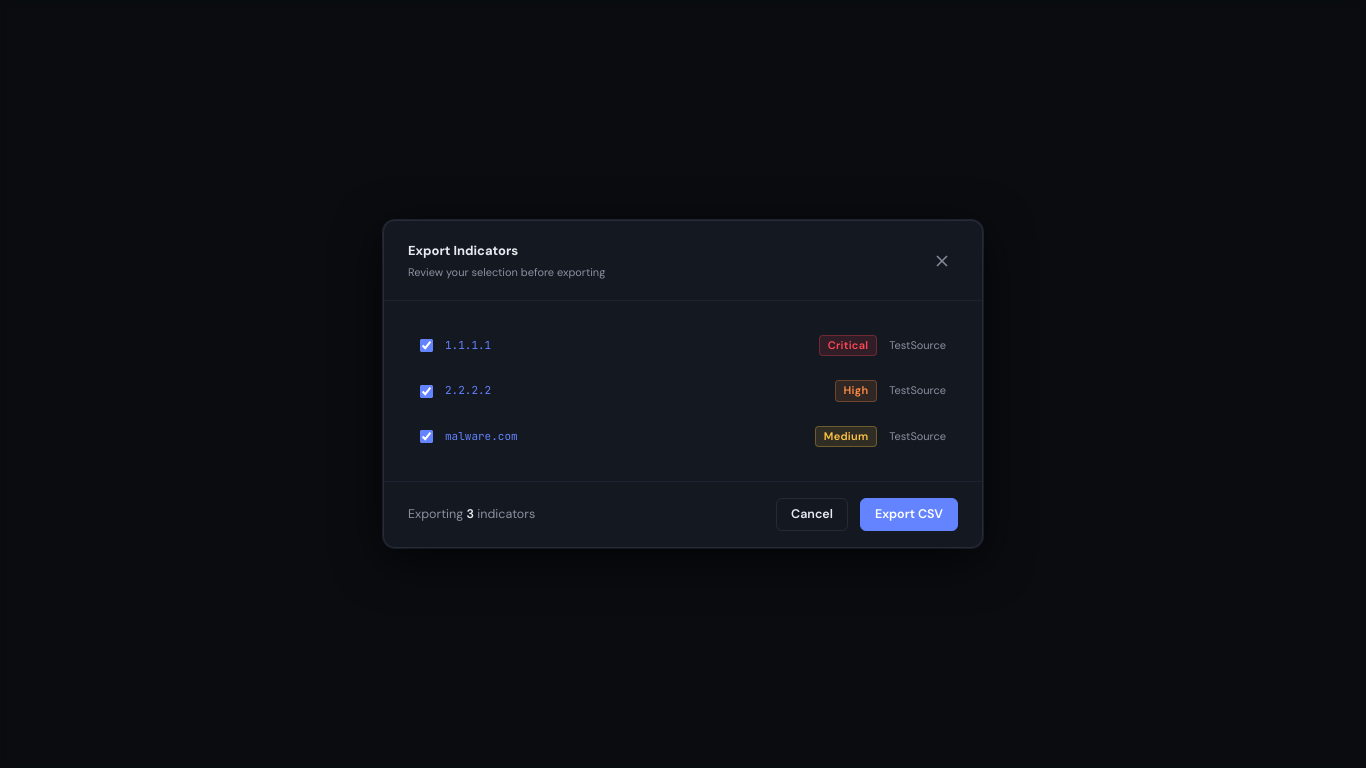
Test: ExportModal › disables Export CSV button when no items selected
Click the checkbox labelled "1.1.1.1 critical TestSource" at (426, 346), box [420,339,433,352]
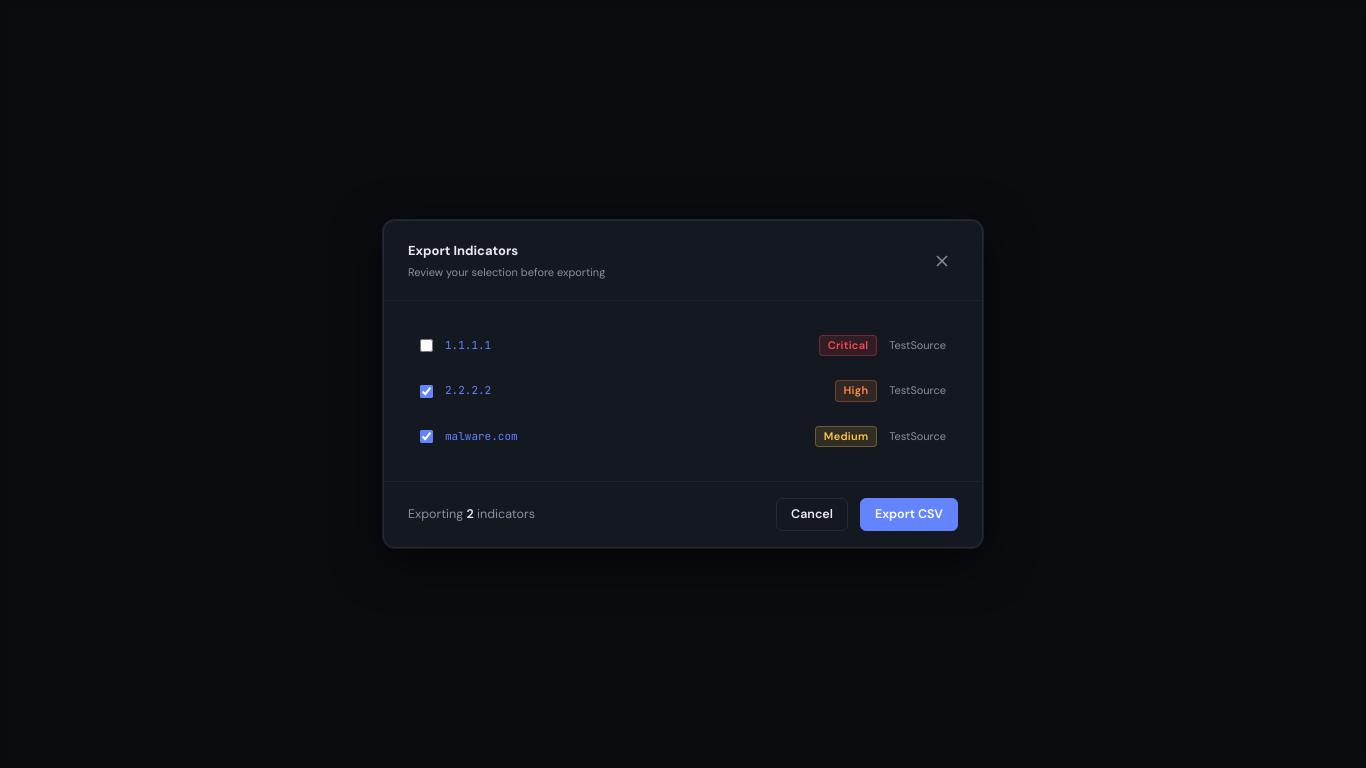
Click the checkbox labelled "2.2.2.2 high TestSource" at (426, 391), box [420,385,433,398]
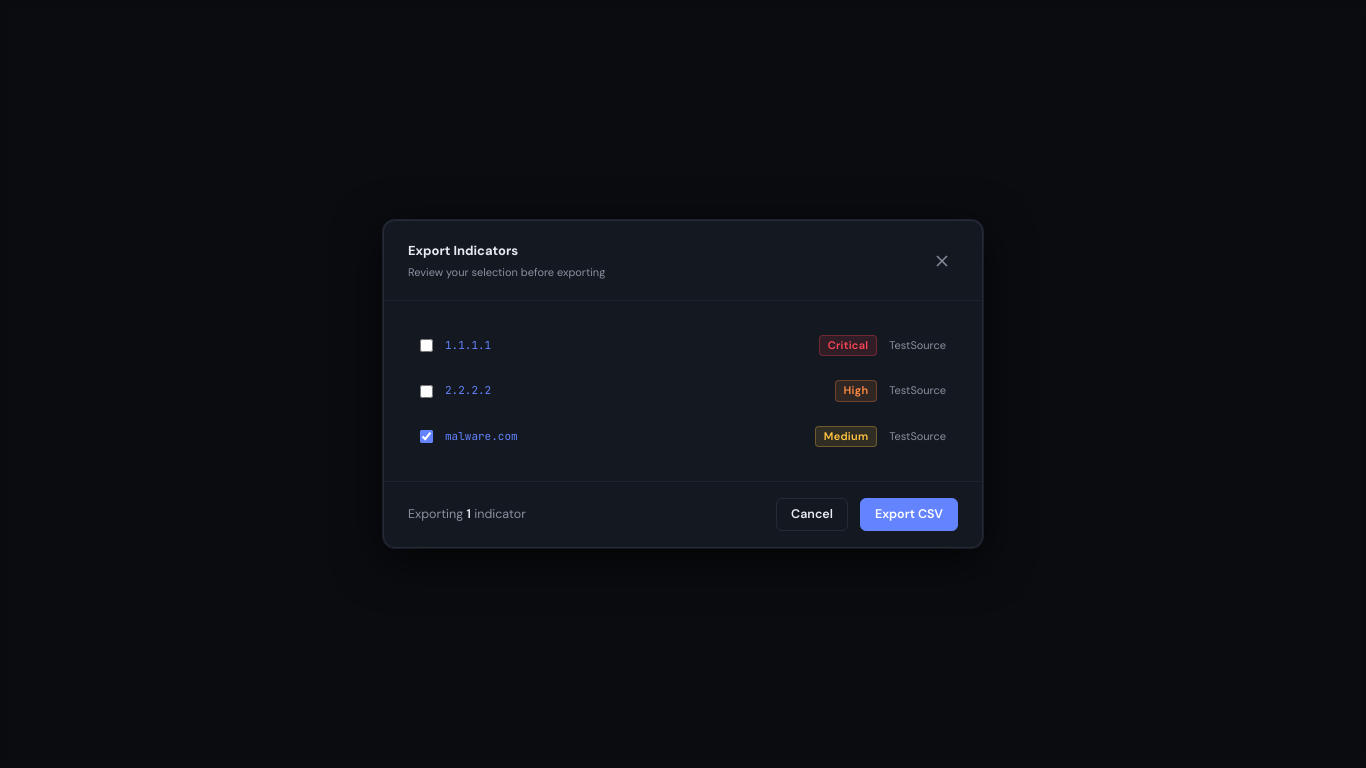
Click the checkbox labelled "malware.com medium TestSource" at (426, 436), box [420,430,433,443]
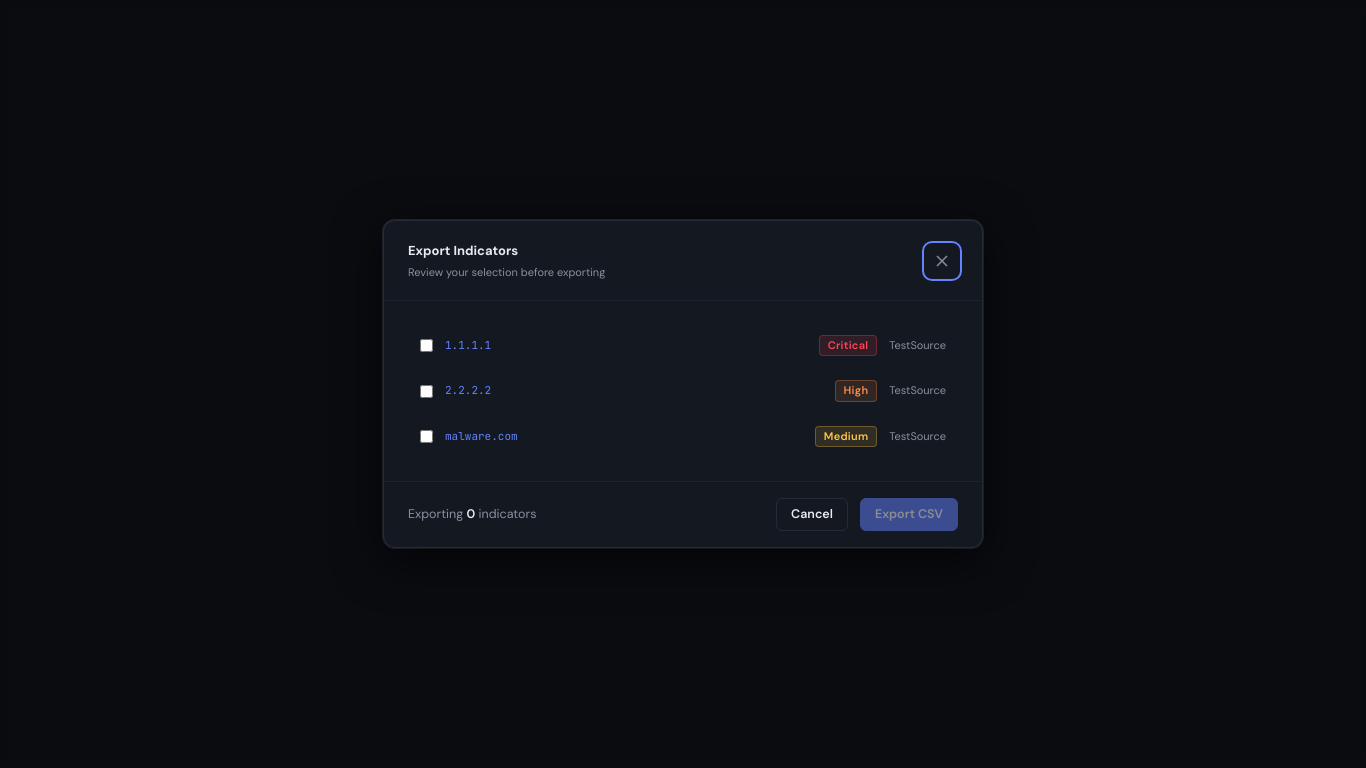
Now the button "Export CSV" is disabled, box [860,498,958,531]
